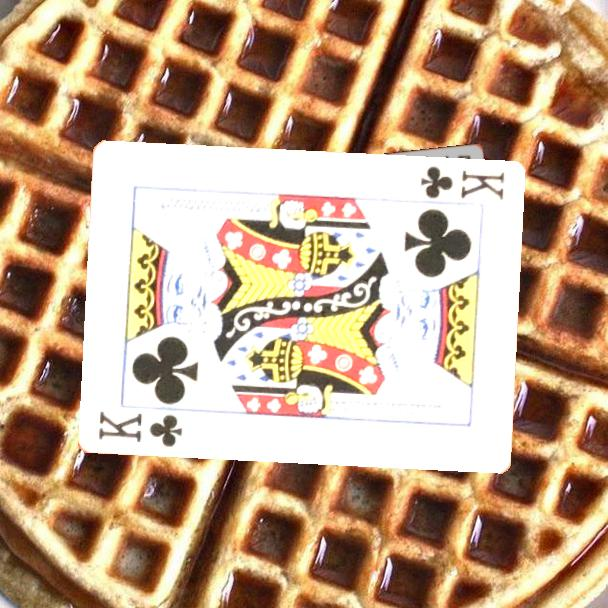c13: (95, 408, 184, 450), (417, 163, 507, 203)
